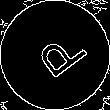P_SW: (24, 25, 86, 85)
